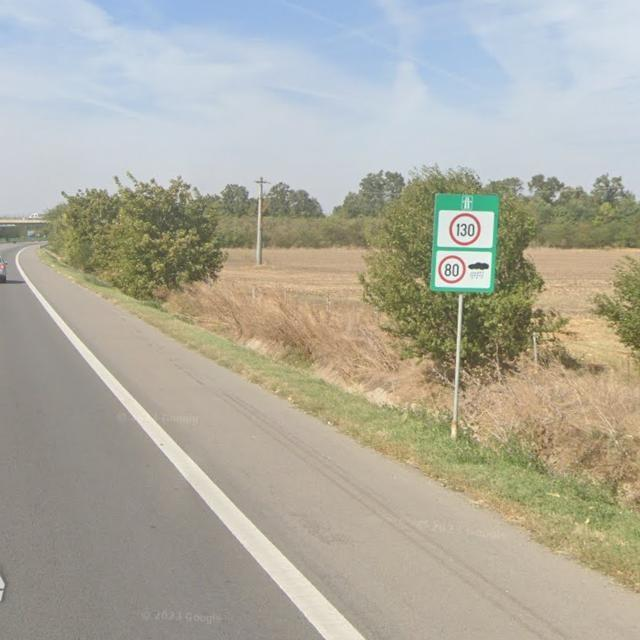forb_speed_over_80: (439, 254, 467, 283)
